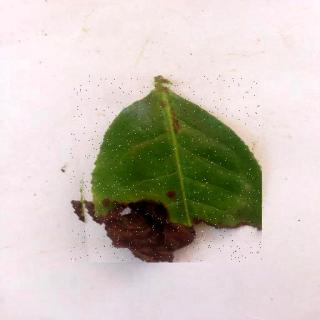Brown Blight: (72, 77, 263, 264)
